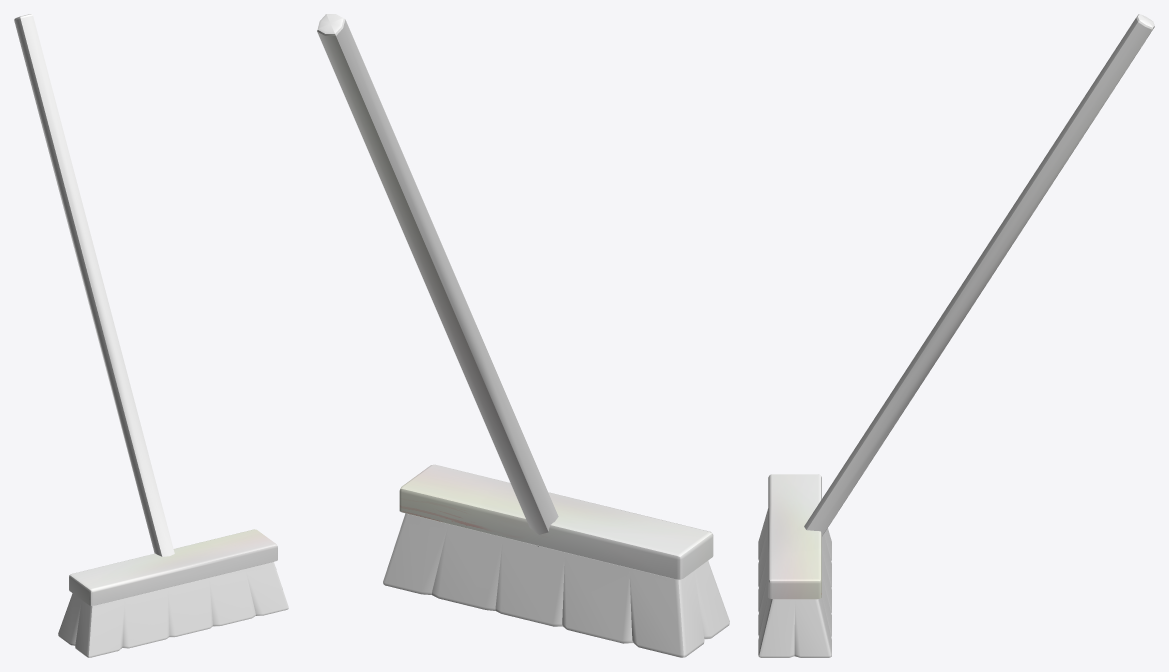
The model's file is broom.glb.
3 renders of one model, left to right at view 1: azimuth 30°, elevation 25°; view 2: azimuth 150°, elevation 25°; view 3: azimuth 270°, elevation 25°, orthographic. The views are drawn at different scales.
Parts seen in each view (by area): view 1: Quest_Pirate_BreakableBroom; view 2: Quest_Pirate_BreakableBroom; view 3: Quest_Pirate_BreakableBroom.
Part boxes in pixels (left/top/right/bottom): Quest_Pirate_BreakableBroom: left=14, top=14, right=288, bottom=657; Quest_Pirate_BreakableBroom: left=317, top=14, right=729, bottom=657; Quest_Pirate_BreakableBroom: left=758, top=14, right=1154, bottom=657.
Bounding box in the file's own units: 0.6382 × 1.51 × 0.9299.
1 material, 1 textured.
